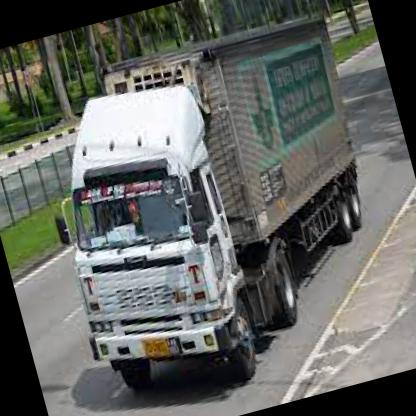truck: (46, 129, 274, 416)
